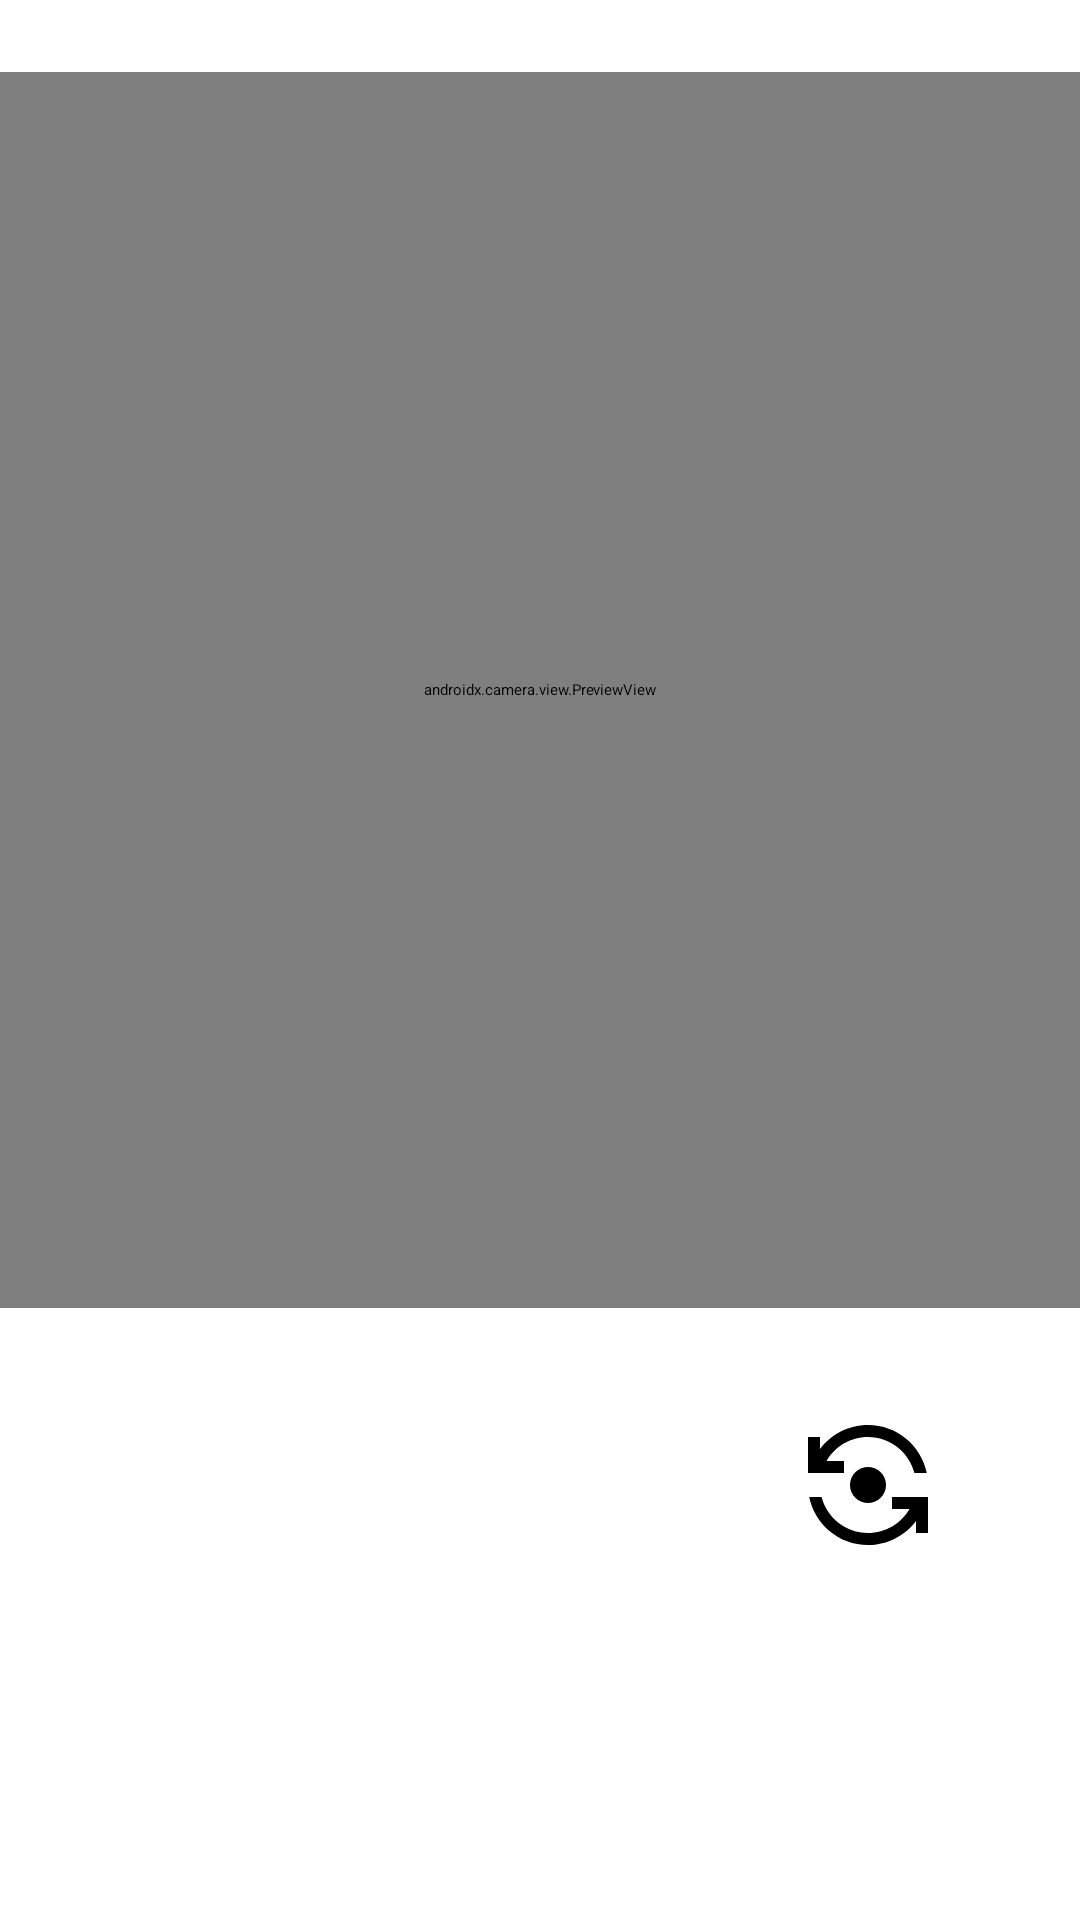

Screen size 1080px×1920px. Icon name, then its box in pixels as {"x1": x1, "y1": y1, "x2": x2, "y2": y2}:
switch between front and back camera: {"x1": 808, "y1": 1425, "x2": 928, "y2": 1545}
